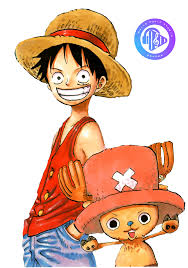chopper: (57, 141, 186, 240)
luffy: (13, 9, 134, 106)
